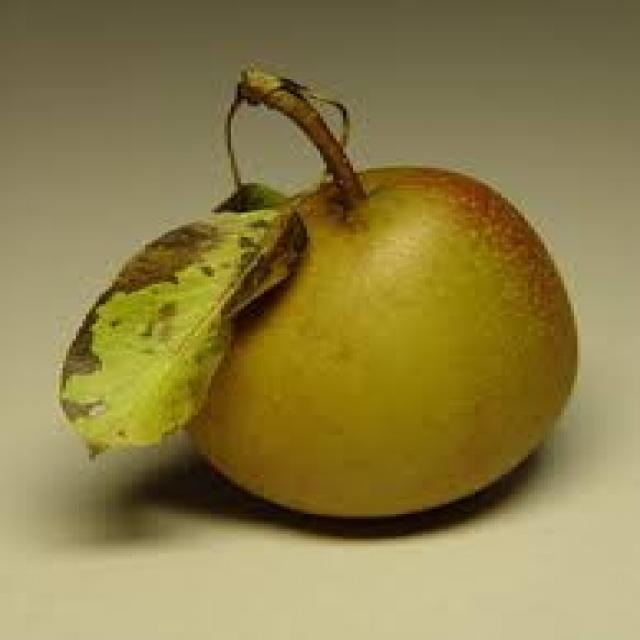organic waste: (182, 64, 578, 514), (53, 205, 303, 457)
